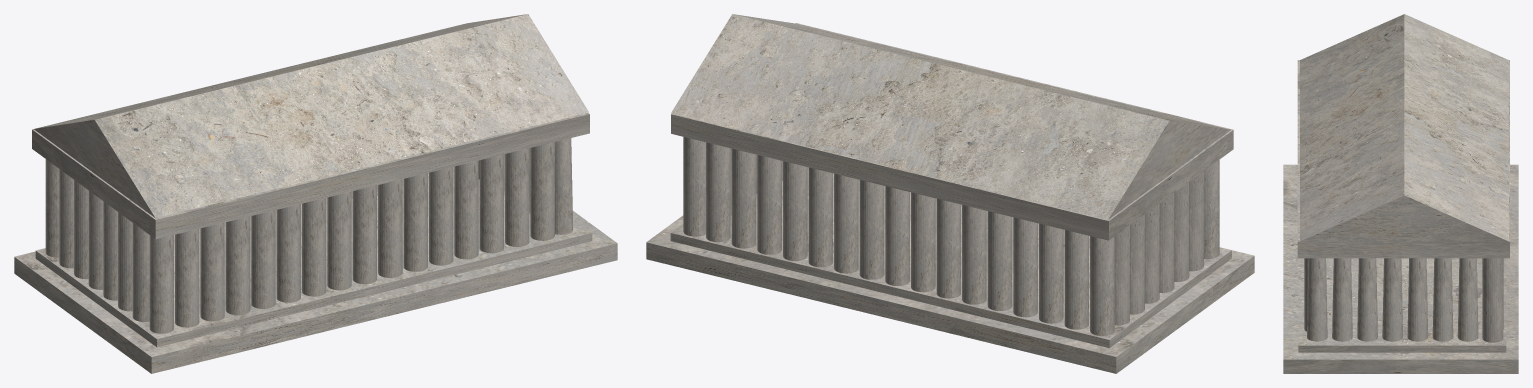
Rendered from Charlie-Parthanon.glb.
3 renders of one model, left to right at view 1: azimuth 30°, elevation 25°; view 2: azimuth 150°, elevation 25°; view 3: azimuth 270°, elevation 25°, orthographic. The views are drawn at different scales.
Parts seen in each view (by area): view 1: Cylinder; view 2: Cylinder; view 3: Cylinder.
Boxes of the visible parts, x1,y1,x2,y2 form: Cylinder: (14,14,617,373); Cylinder: (646,14,1254,373); Cylinder: (1283,14,1518,373).
Bounding box in the file's own units: 44.08 × 17.98 × 22.48.
Materials: 1 (1 with a texture image).
